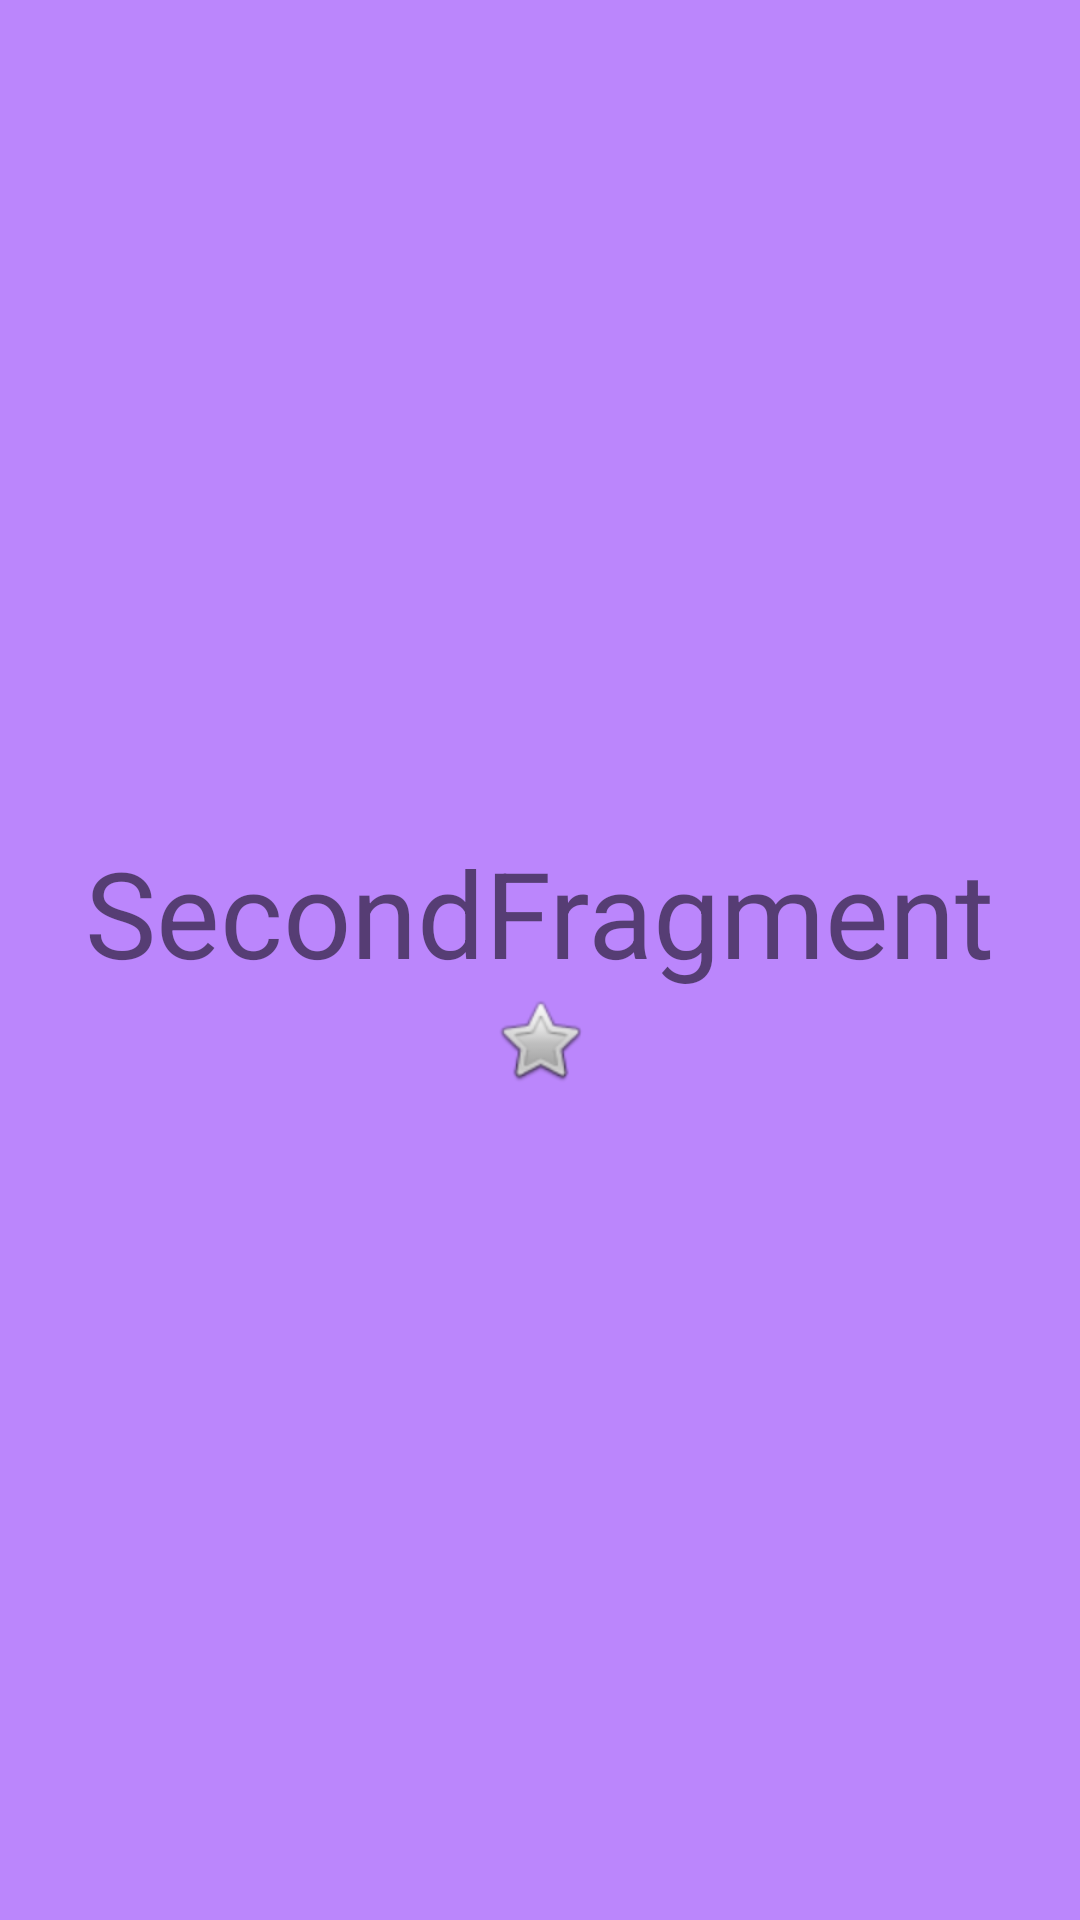

Icons on this 1080 x 1920 Android screen, each with the point to tap as point (x, y):
star: point (541, 1041)
